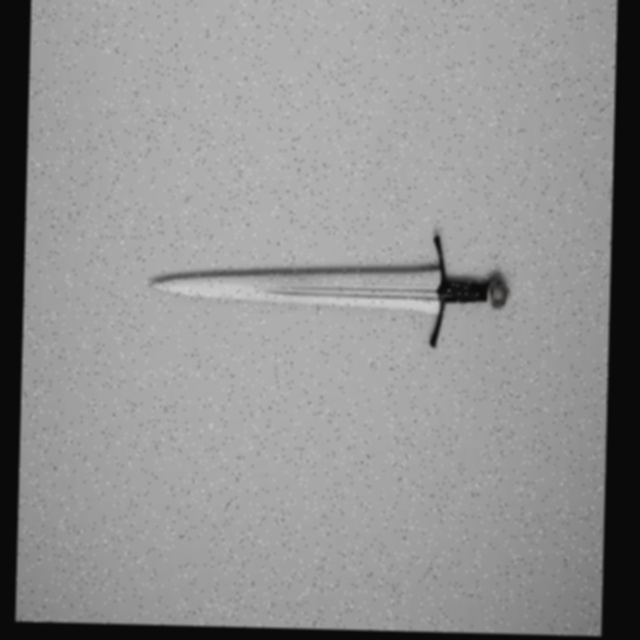Sharp-Object: (143, 250, 517, 331)
